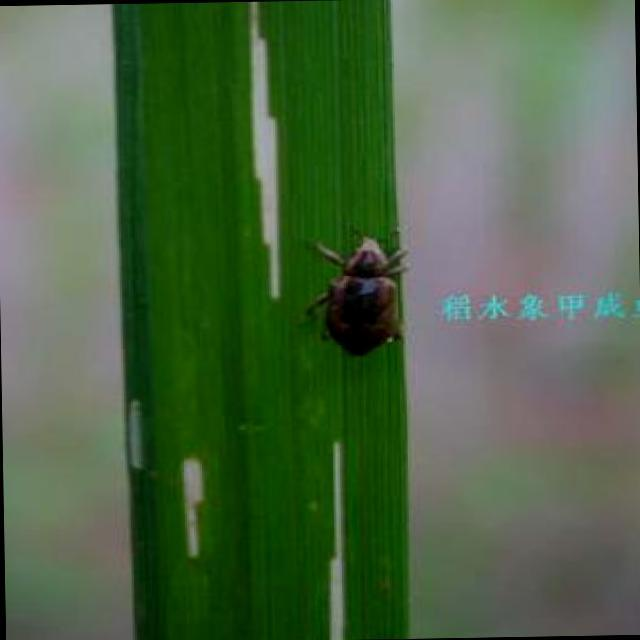ricebug: (306, 236, 406, 356)
